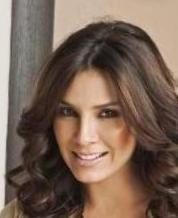face: (58, 102, 123, 166)
